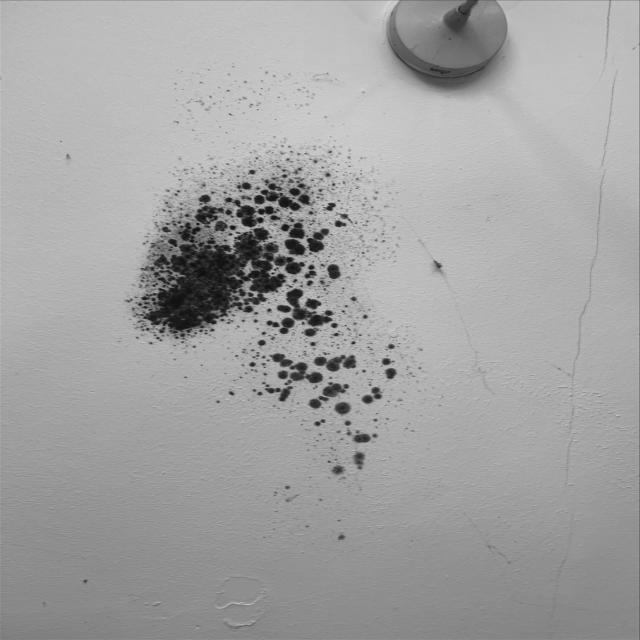stain marks: (72, 135, 410, 349), (217, 286, 427, 496), (152, 57, 376, 135), (255, 482, 388, 562), (162, 334, 242, 411)
